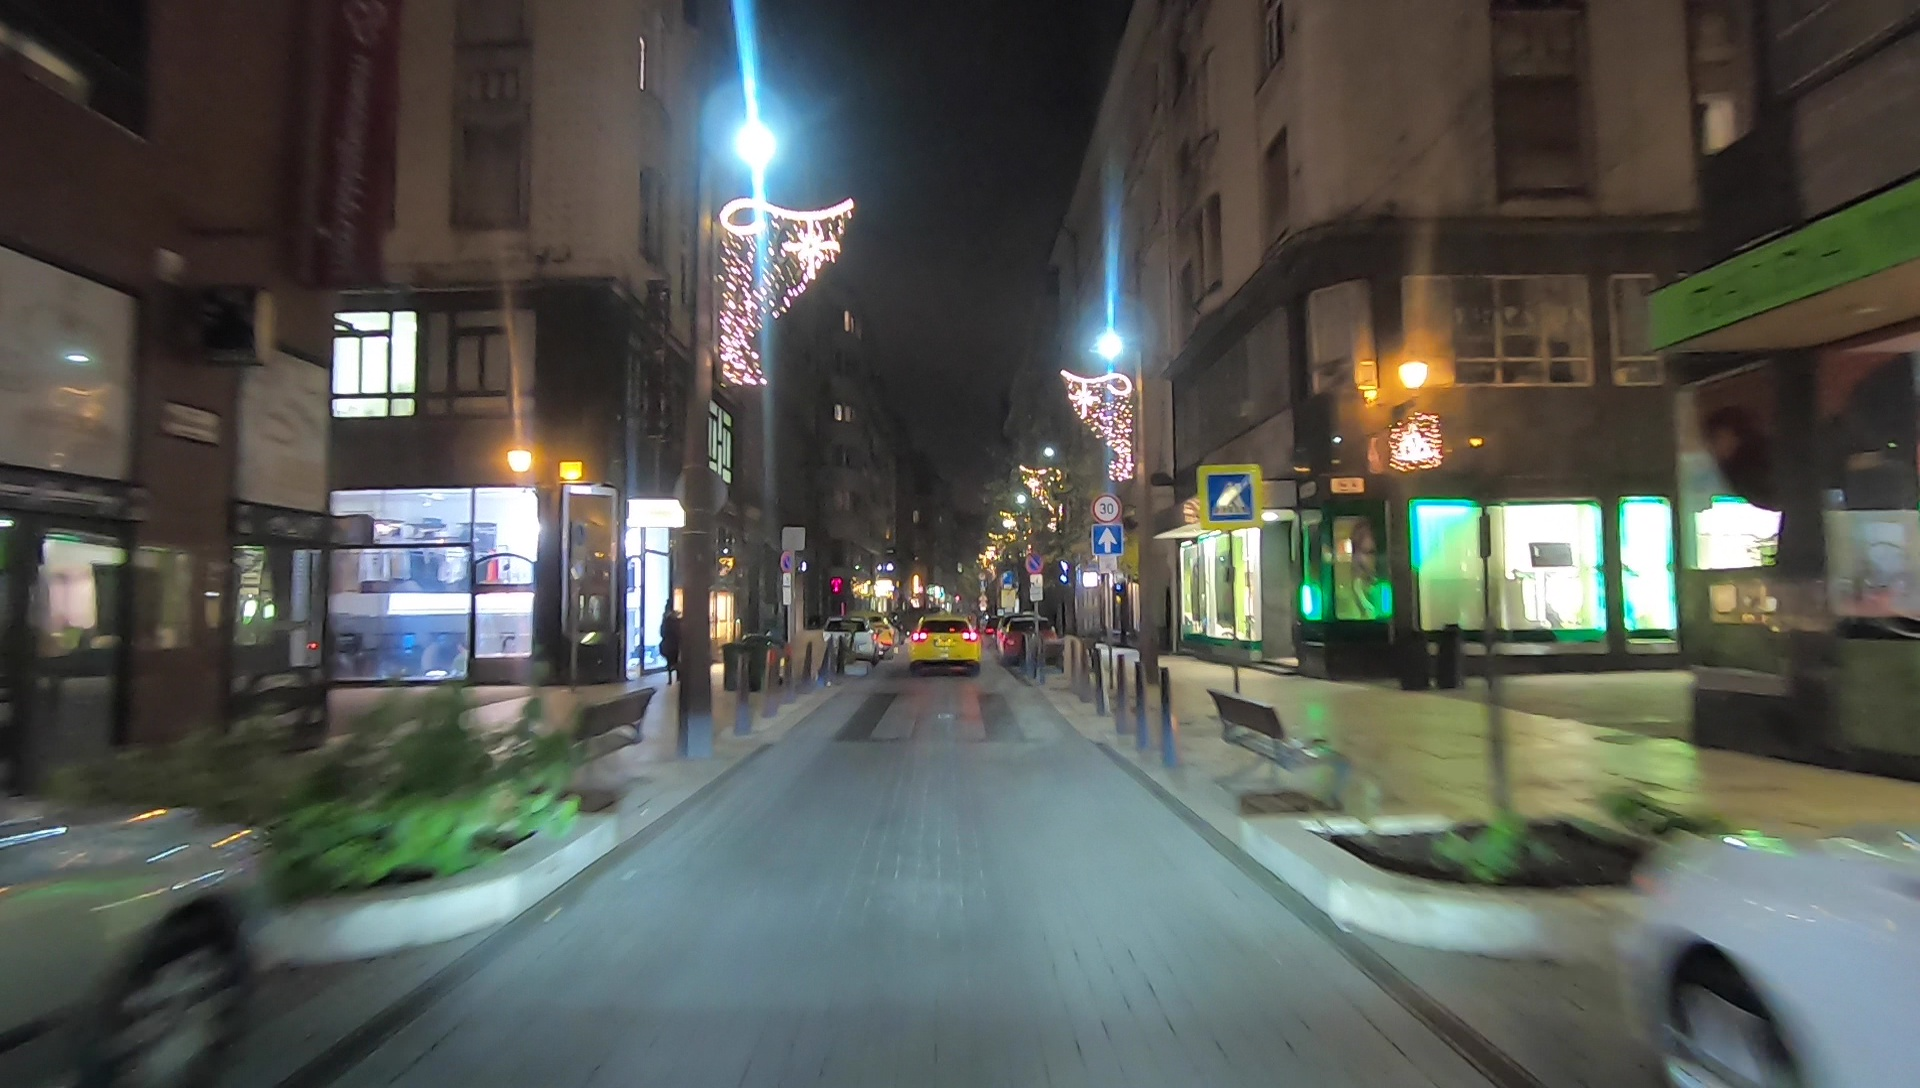person: (656, 606, 686, 686)
